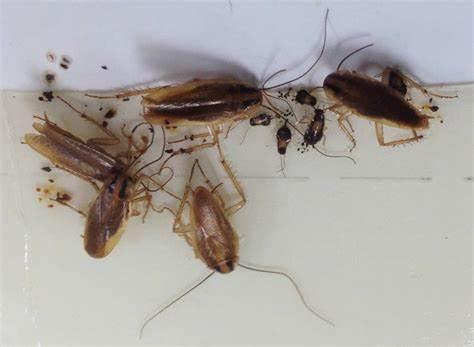cockroach: (323, 67, 434, 147), (24, 115, 132, 187), (135, 76, 264, 126), (182, 177, 242, 278), (80, 160, 140, 259), (304, 107, 326, 149), (292, 86, 318, 109), (276, 126, 293, 158), (247, 112, 276, 130)
